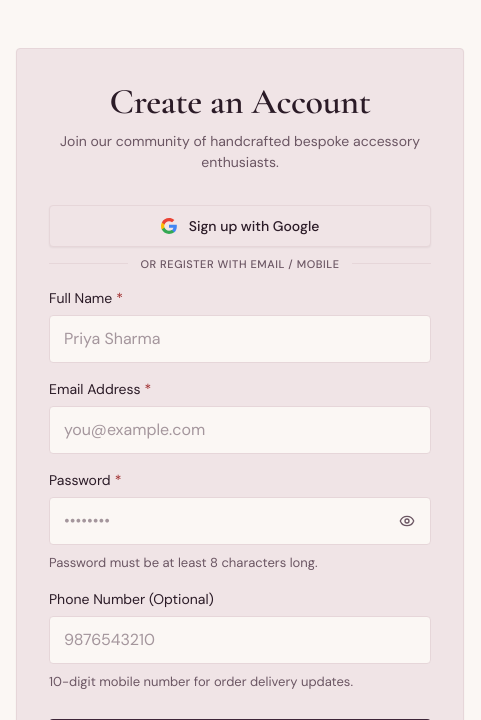
Test case: FE-25: Sign up and login pages › Signup Page › displays server field errors next to fields when registration fails (e.g. email taken)
In the field labelled "Full Name*": (240, 340) [49,316,431,364], type "Priya"
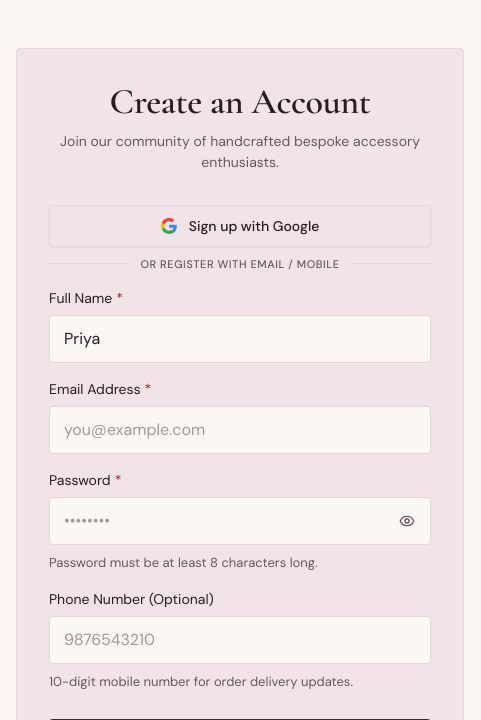
In the field labelled "Email Address*": (240, 430) [49,406,431,454], type "taken@example.com"
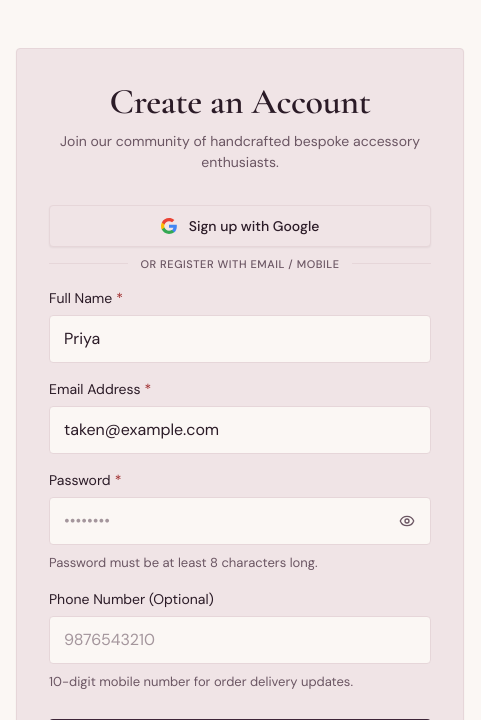
In the password field labelled "Password*": (240, 522) [49,498,431,546], type "SecretPassword123"
(page scrolled)
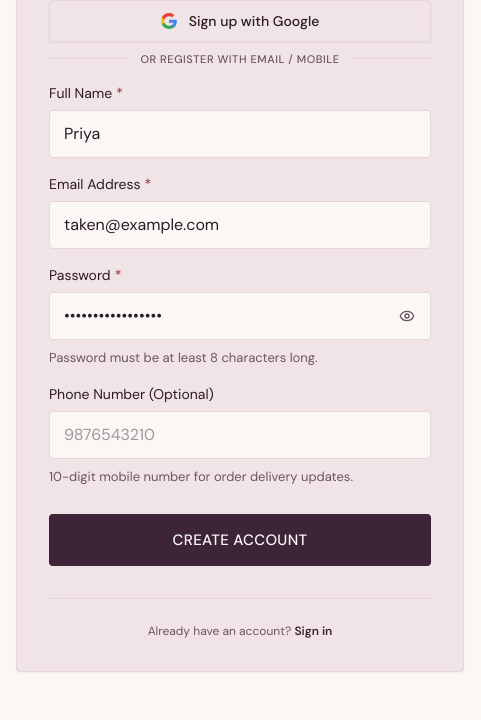
Click the button with test id "signup-submit-btn": (240, 540) [49,514,431,566]
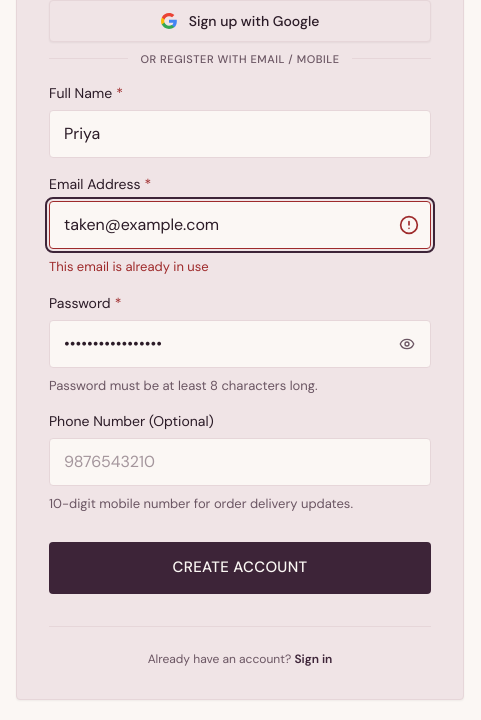
Expected: the text "This email is already in use" is shown, [49,258,209,277]
